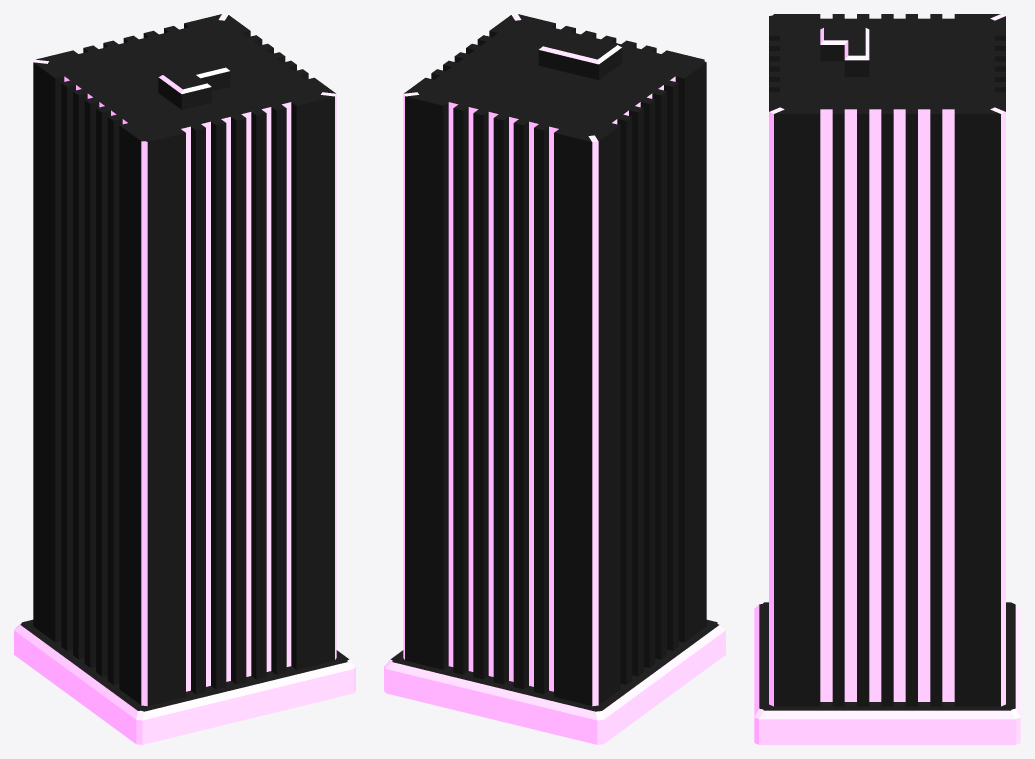
The picture shows the model from 3 angles, left to right: view 1: azimuth 30°, elevation 25°; view 2: azimuth 150°, elevation 25°; view 3: azimuth 270°, elevation 25°; orthographic projection. The views are drawn at different scales.
Visible parts, largest first — view 1: Box015; view 2: Box015; view 3: Box015.
Boxes of the visible parts, box(x1,y1,x2,y2) form: Box015: box(14, 14, 355, 744); Box015: box(384, 14, 725, 744); Box015: box(754, 14, 1020, 744).
Size of the model in its own units: 497 by 1326 by 497.
